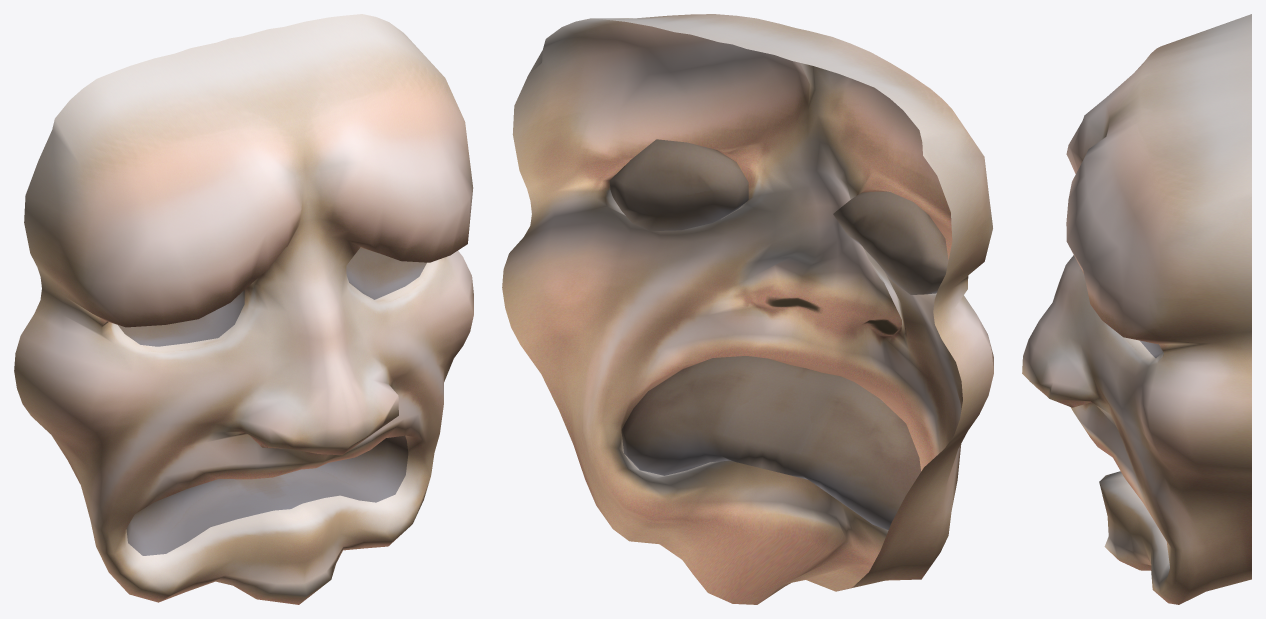
The model's file is TragedyMask.fbx.
3 views of the same model, side by side, from view 1: azimuth 30°, elevation 25°; view 2: azimuth 150°, elevation 25°; view 3: azimuth 270°, elevation 25° (orthographic). The views are drawn at different scales.
Parts seen in each view (by area): view 1: TragedyMask; view 2: TragedyMask; view 3: TragedyMask.
Boxes of the visible parts, x1,y1,x2,y2 form: TragedyMask: (14, 14, 473, 604); TragedyMask: (502, 14, 993, 604); TragedyMask: (1022, 14, 1251, 604).
Bounding box in the file's own units: 122 × 141 × 58.88.
